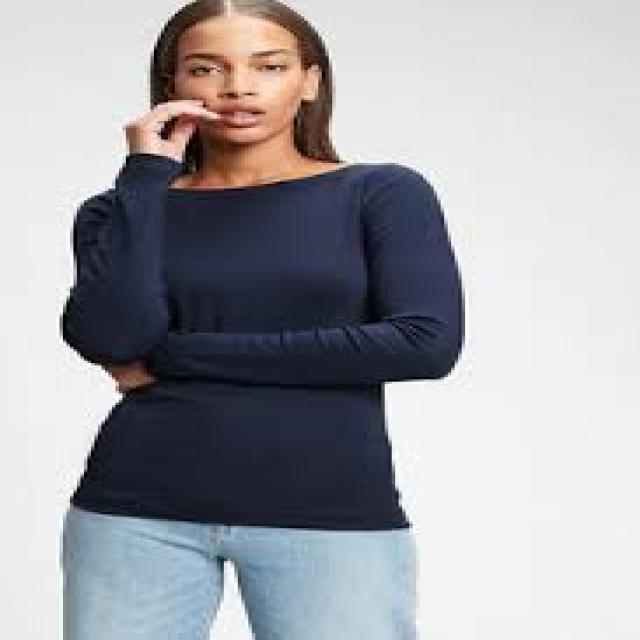plain: (51, 152, 474, 536)
